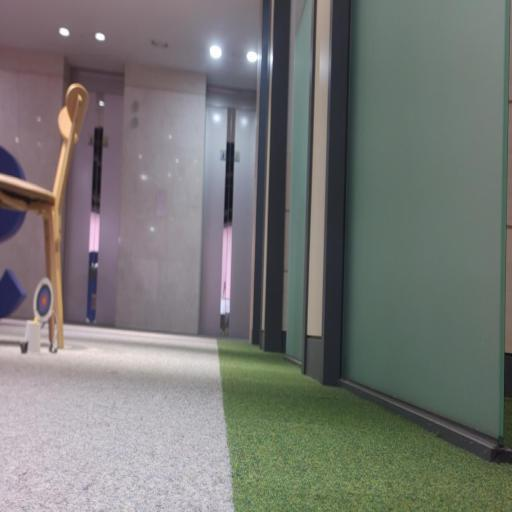target: (34, 278, 54, 324)
